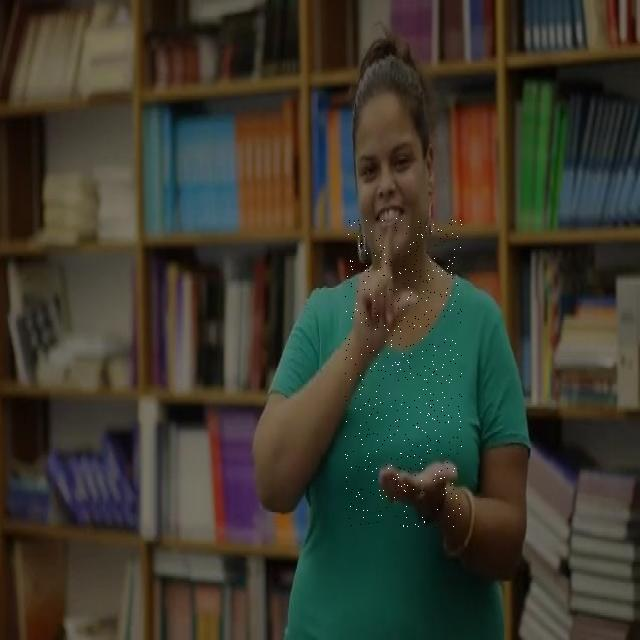chicken: (345, 218, 462, 528)
